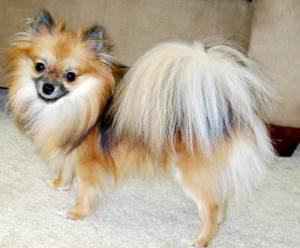dog-pomeranian: (23, 6, 103, 100)
